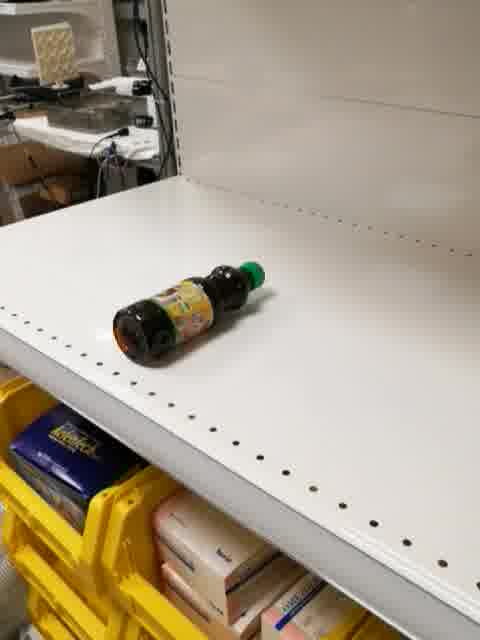cookingoil: (111, 258, 268, 369)
